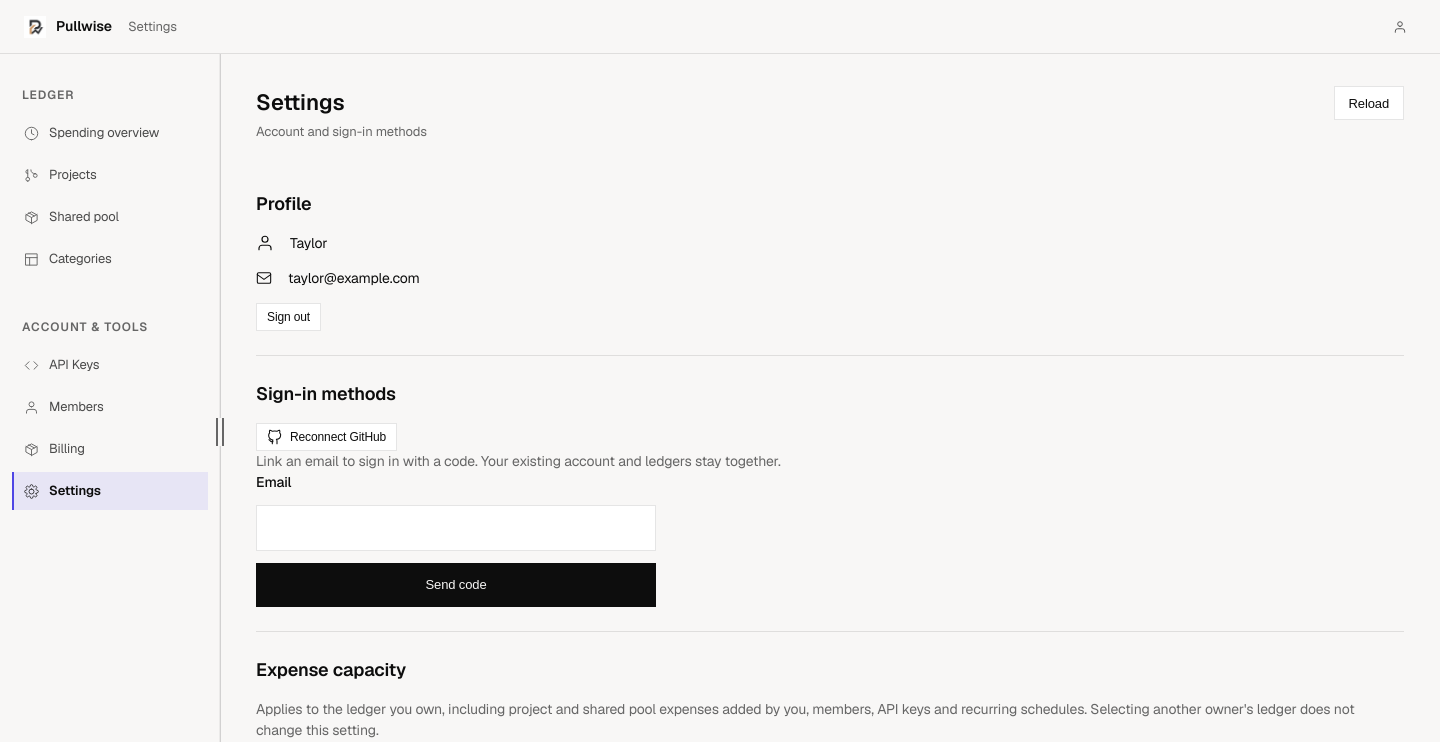
Scenario: product settings › refuses a binding response belonging to another user and retains the code for explicit retry
This screenshot has width=1440, height=742.
In the field labelled "Email": (456, 528) x1=256 y1=505 x2=656 y2=551, type "login@example.com"
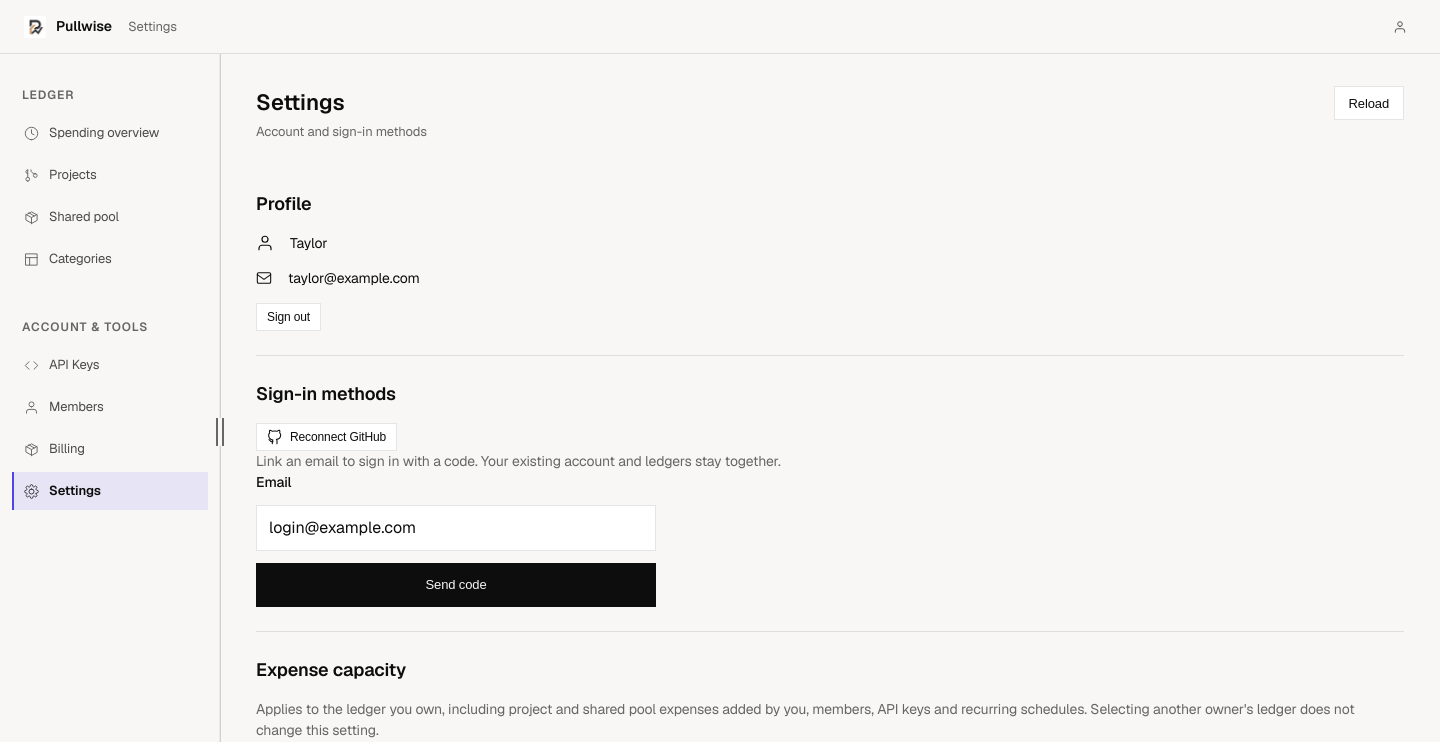
Click the button "Send code": (456, 585) x1=256 y1=563 x2=656 y2=607
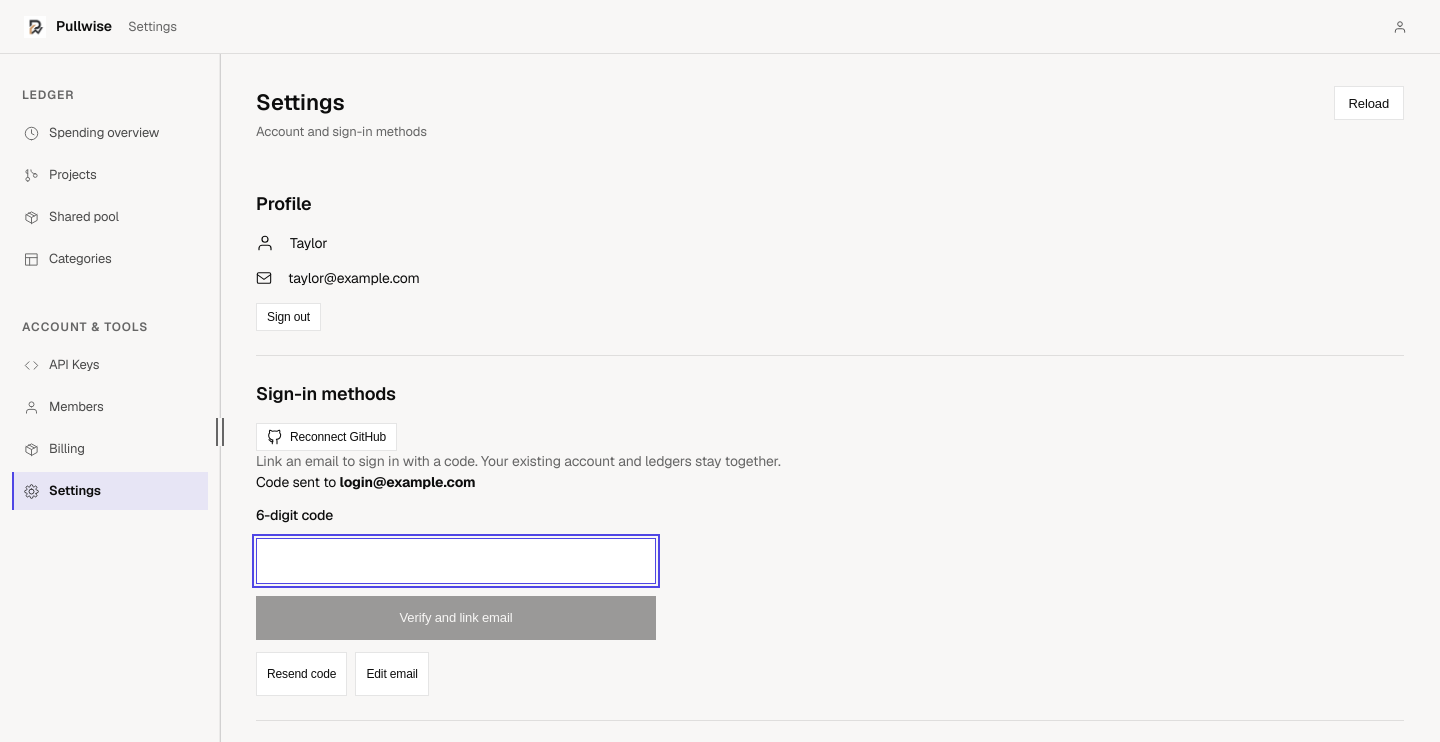
In the field labelled "6-digit code": (456, 561) x1=256 y1=538 x2=656 y2=584, type "012345"
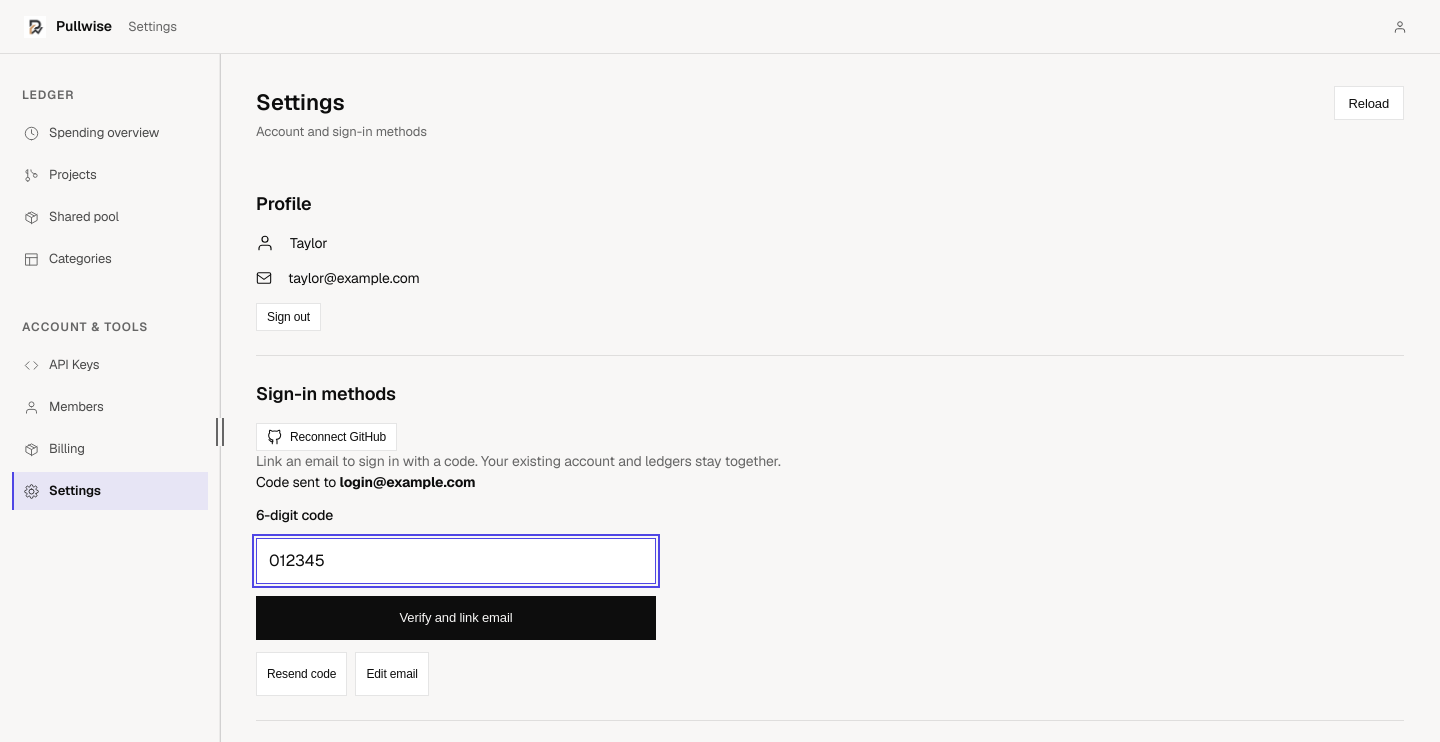
Click the button "Verify and link email": (456, 618) x1=256 y1=596 x2=656 y2=640
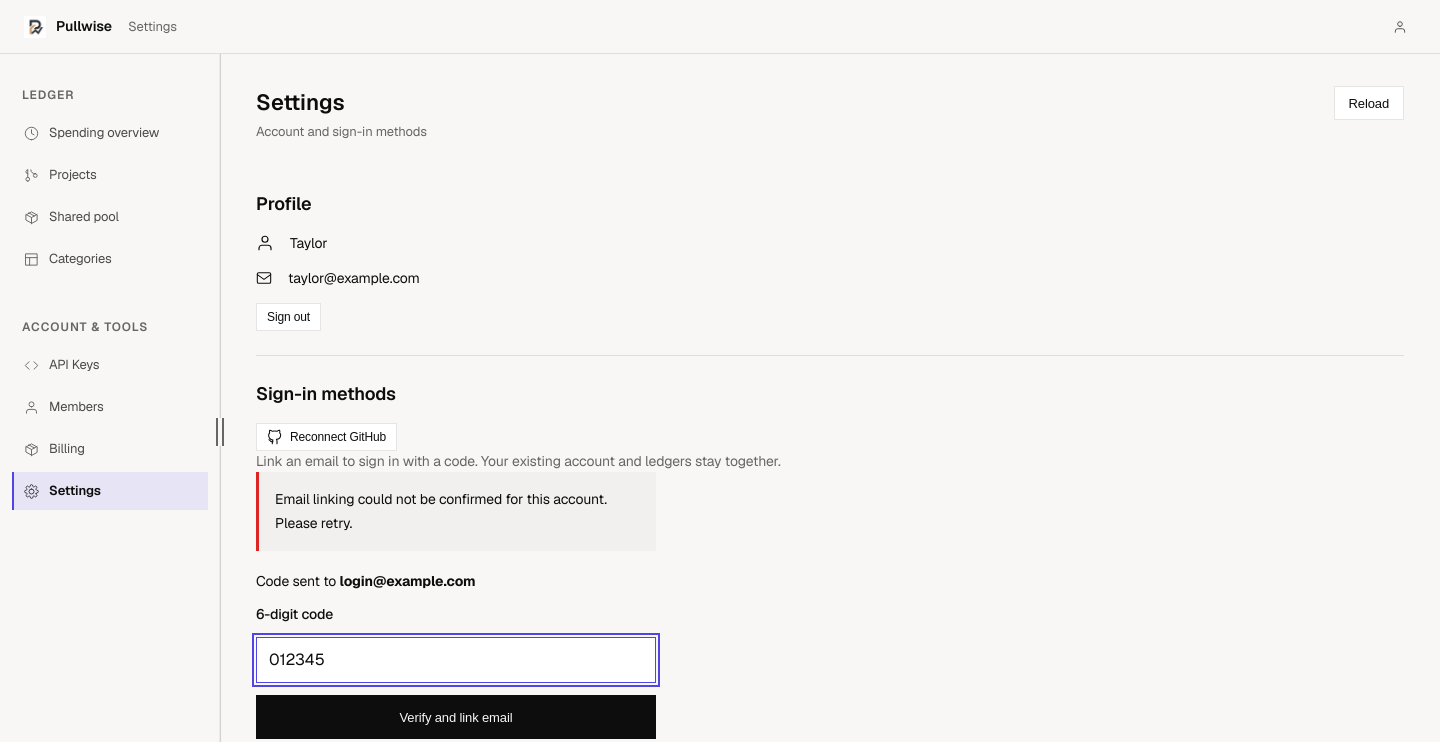
Check: the text "Taylor" is shown, box x1=290 y1=233 x2=328 y2=254
Check: the field labelled "6-digit code" is enabled, box x1=256 y1=637 x2=656 y2=683
Check: the message shows "for this account", box x1=275 y1=490 x2=607 y2=532
